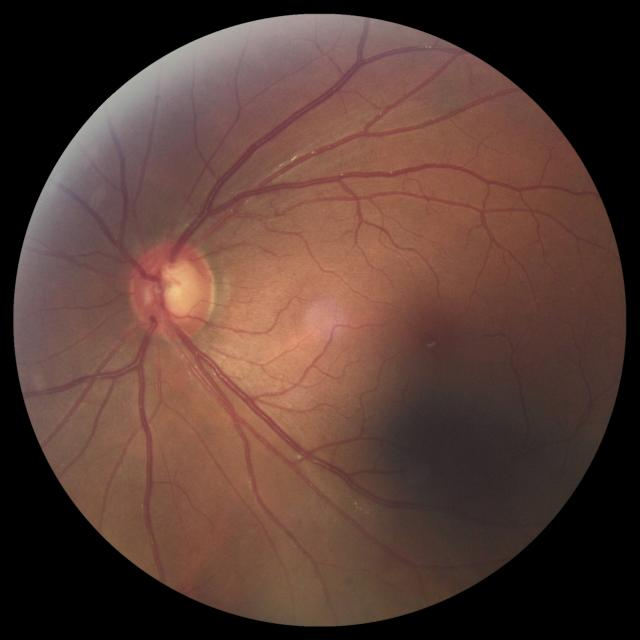OC: (147, 259, 201, 318)
OD: (130, 238, 217, 339)
